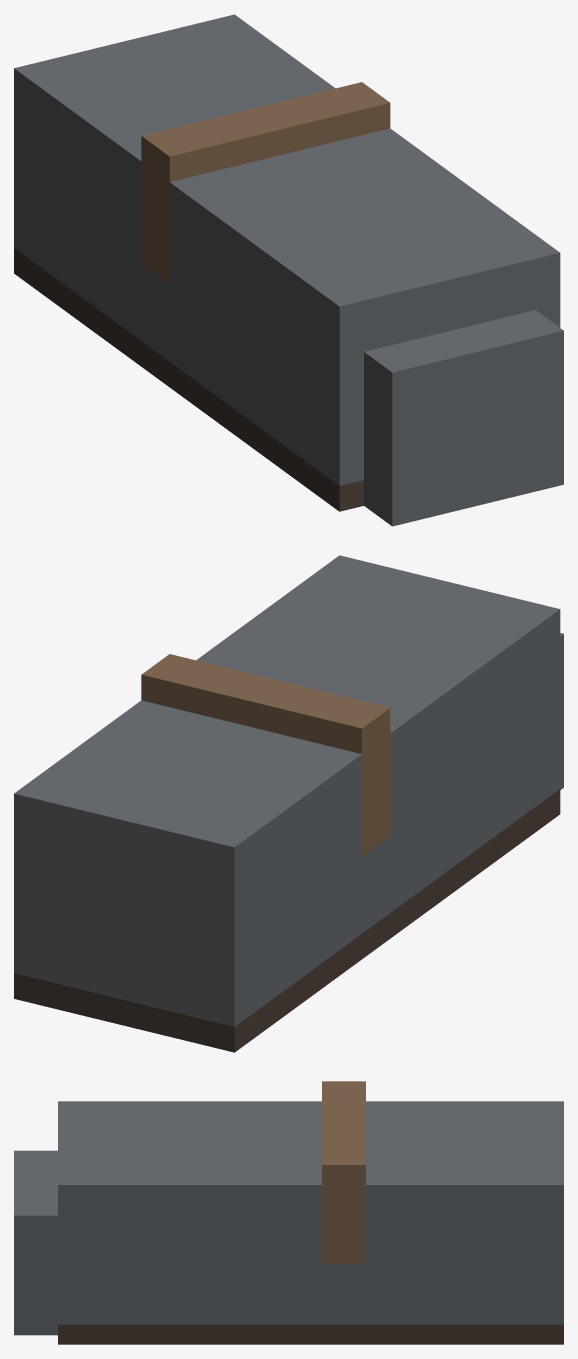
Rendered from mystic_uncommon_boot_foot_L.glb.
The picture shows the model from 3 angles, top to bottom: view 1: azimuth 30°, elevation 25°; view 2: azimuth 150°, elevation 25°; view 3: azimuth 270°, elevation 25°; orthographic projection. The views are drawn at different scales.
Parts seen in each view (by area): view 1: mystic_uncommon_boot_foot_L; view 2: mystic_uncommon_boot_foot_L; view 3: mystic_uncommon_boot_foot_L.
Part boxes in pixels (x1,y1,x2,y2): mystic_uncommon_boot_foot_L: [14, 14, 563, 526]; mystic_uncommon_boot_foot_L: [14, 555, 563, 1052]; mystic_uncommon_boot_foot_L: [14, 1081, 563, 1344].
Bounding box in the file's own units: 0.108 × 0.108 × 0.3.
